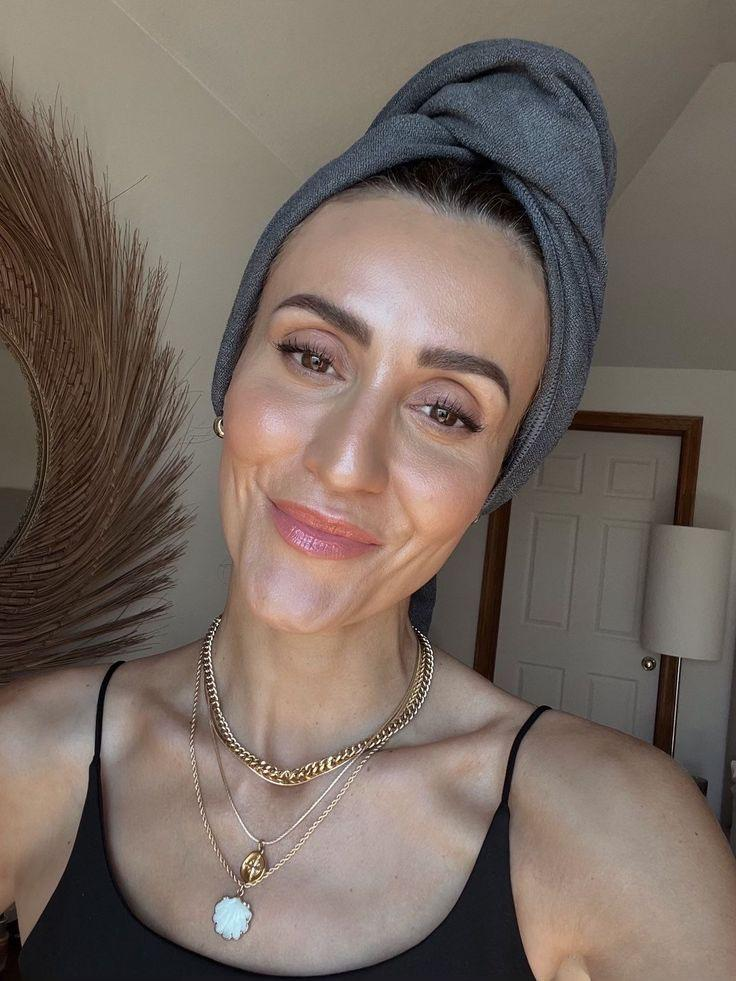Dry-Skin: (218, 398, 350, 522), (332, 205, 485, 290), (370, 470, 465, 573), (295, 545, 380, 635)
